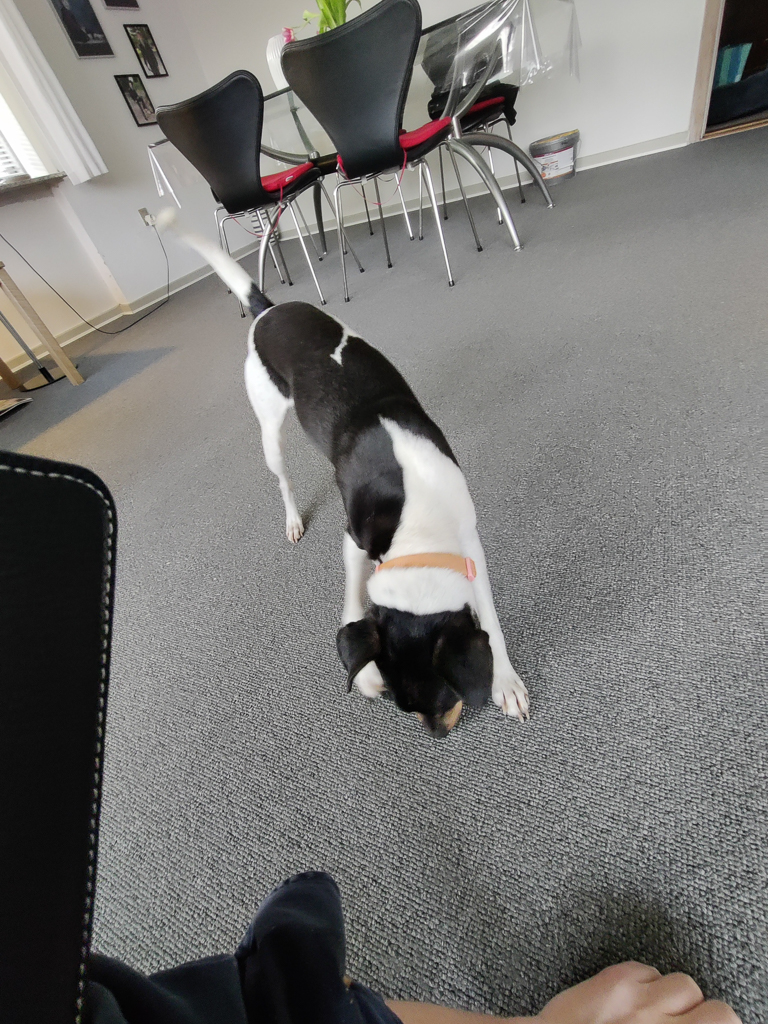Dog: (142, 195, 558, 752)
Humanoid: (42, 849, 756, 1024)
